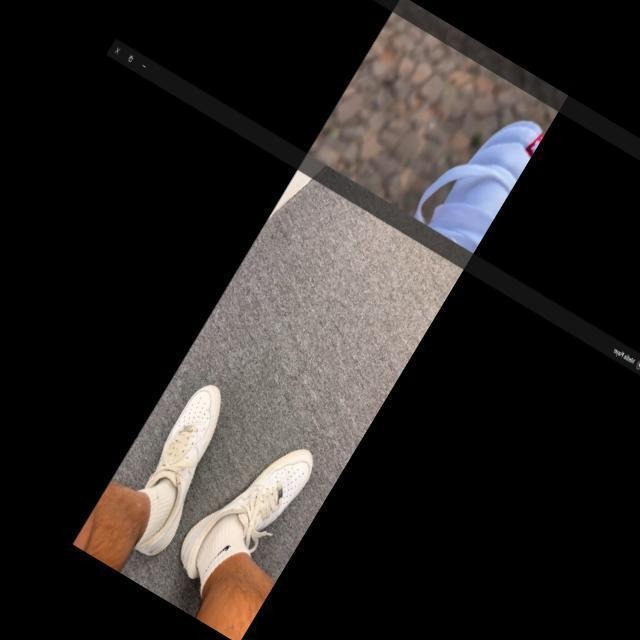nike original air force: (168, 418, 321, 604), (108, 377, 252, 563)
